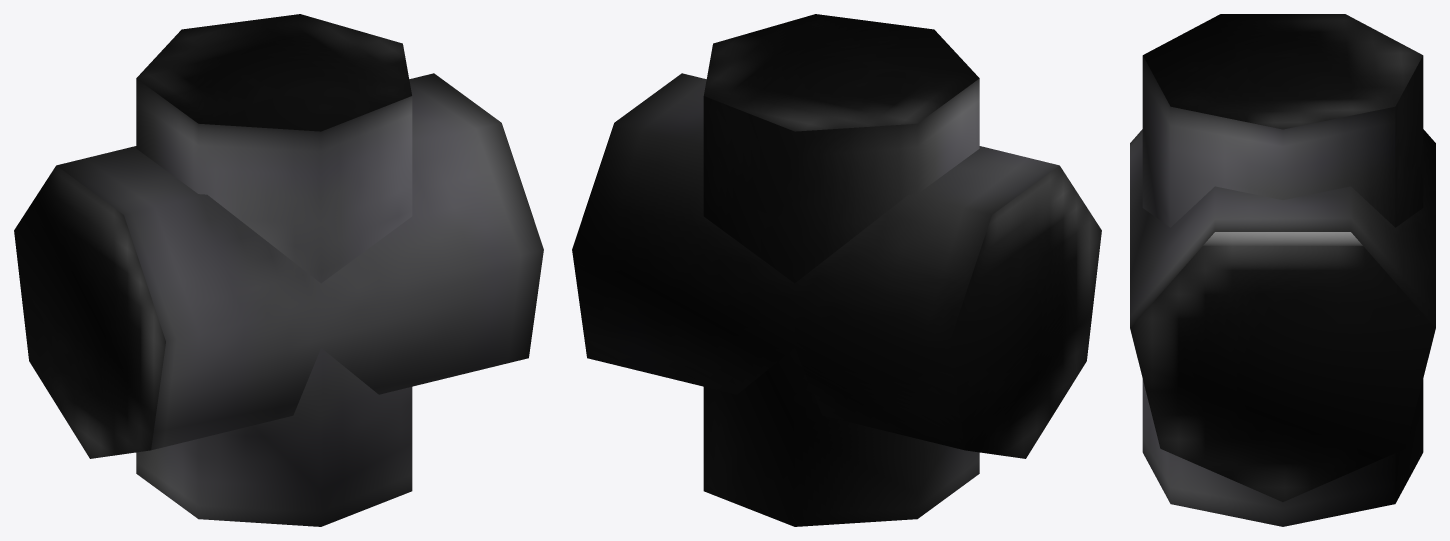
Rendered from l_talus.dae.
3 renders of one model, left to right at view 1: azimuth 30°, elevation 25°; view 2: azimuth 150°, elevation 25°; view 3: azimuth 270°, elevation 25°, orthographic.
Visible parts, largest first — view 1: l_talus; view 2: l_talus; view 3: l_talus.
Boxes of the visible parts, left/top/right/bottom form: l_talus: left=14, top=14, right=543, bottom=526; l_talus: left=572, top=14, right=1101, bottom=526; l_talus: left=1130, top=14, right=1435, bottom=526.
Bounding box in the file's own units: 0.0327 × 0.0327 × 0.0228.
Materials: 1 (1 with a texture image).
